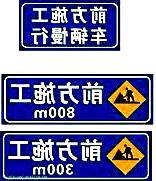sign: (3, 75, 151, 122), (2, 132, 148, 178), (20, 1, 119, 49)
